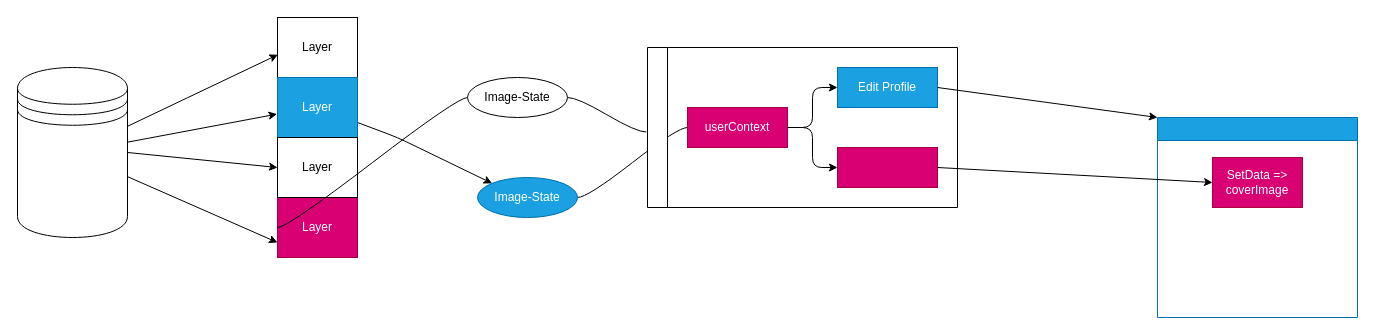
The diagram is 1375 pixels wide and 335 high, and some of its shapes have lost their labels. Each missing label, with the box of its shape:
Container: (1156, 116, 1358, 318)
Horizontal Tree Layout: (646, 46, 958, 208)
Post Box: (836, 146, 938, 188)
Store: (16, 66, 128, 238)
